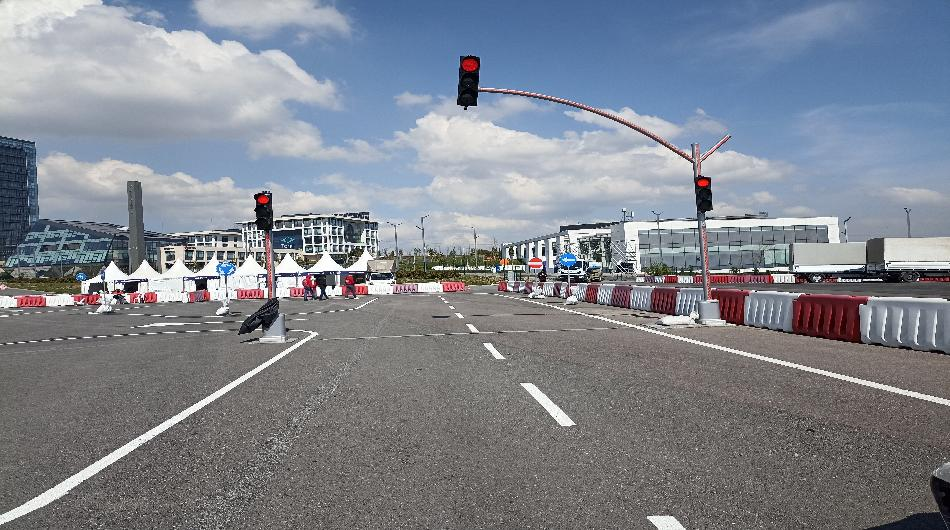red_light: (456, 53, 489, 114), (248, 188, 278, 235), (692, 173, 715, 214)
